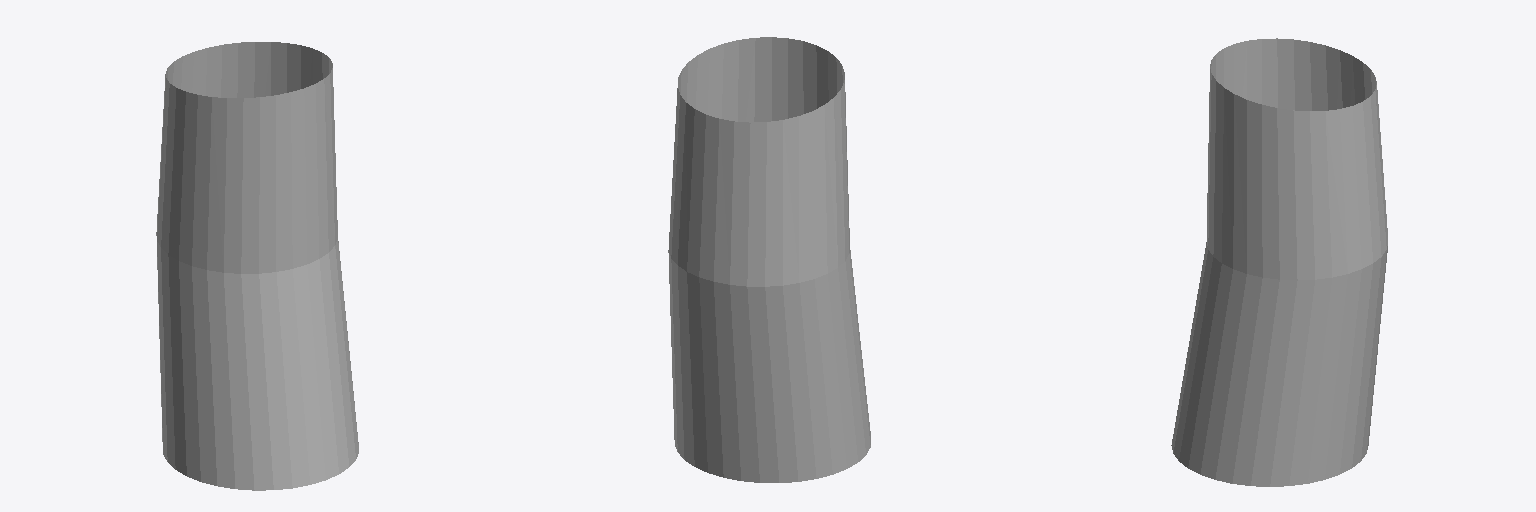
File: Palmera Mid.obj
The picture shows the model from 3 angles: view 1: azimuth 30°, elevation 25°; view 2: azimuth 150°, elevation 25°; view 3: azimuth 270°, elevation 25°; orthographic projection.
Parts seen in each view (by area): view 1: Palmera_D1_Cilindro; view 2: Palmera_D1_Cilindro; view 3: Palmera_D1_Cilindro.
Boxes of the visible parts, <box> form: Palmera_D1_Cilindro: <box>156,42,358,490</box>; Palmera_D1_Cilindro: <box>668,37,870,482</box>; Palmera_D1_Cilindro: <box>1171,38,1387,486</box>.
Size of the model in its own units: 0.4203 by 0.8913 by 0.4628.